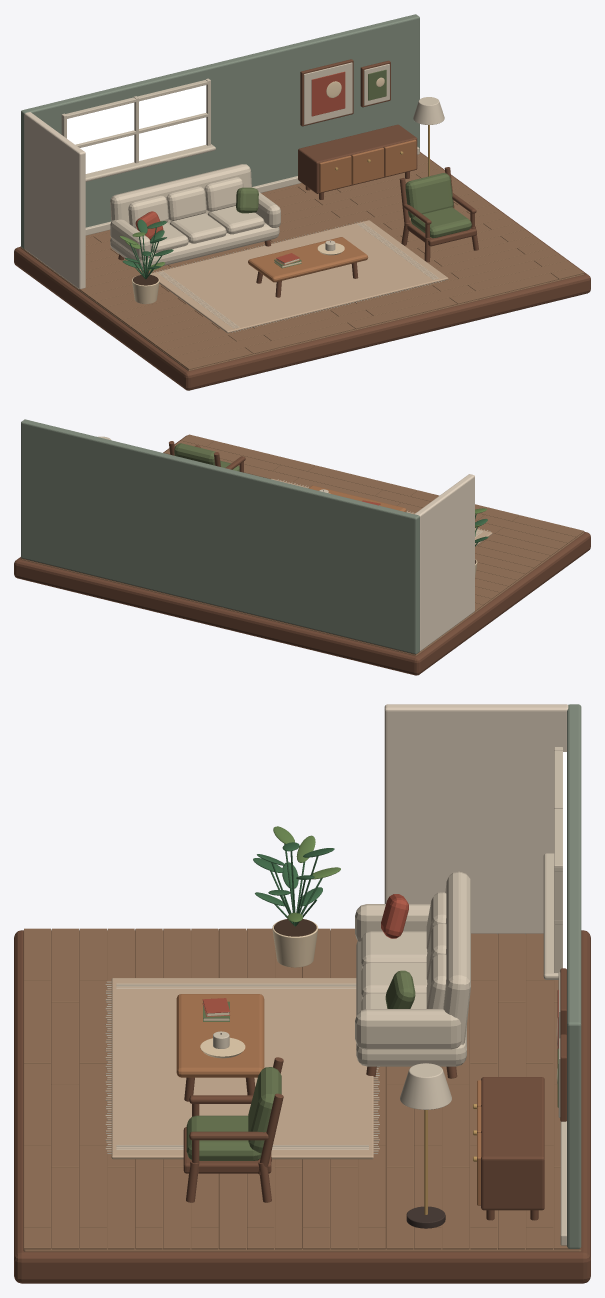
Rendered from world-base-home.glb.
3 views of the same model, one above another, from view 1: azimuth 30°, elevation 25°; view 2: azimuth 150°, elevation 25°; view 3: azimuth 270°, elevation 25° (orthographic). The views are drawn at different scales.
Parts seen in each view (by area): view 1: object 2, object 3, object 1, object 4, object 7, Back cushion.001, Seat cushion.001, Sideboard door, Sideboard door.001, Sideboard door.002, Staggered floorboard.002, Staggered floorboard.001 (+39 smaller); view 2: object 2, object 1, Staggered floorboard.002, Staggered floorboard.007, Staggered floorboard.003, object 3, Staggered floorboard.005, Staggered floorboard.014, Staggered floorboard.008, Staggered floorboard, Staggered floorboard.009, Staggered floorboard.018 (+8 smaller); view 3: object 2, object 1, object 3, object 4, Sofa arm.001, object 6, Staggered floorboard.007, Staggered floorboard.082, Staggered floorboard.010, Staggered floorboard.073, Staggered floorboard.006, Staggered floorboard.017 (+52 smaller).
Part boxes in pixels (box(x1,y1,x2,y2)): object 2: box(21, 14, 444, 328); object 3: box(150, 69, 471, 333); object 1: box(14, 59, 590, 390); object 4: box(248, 237, 368, 282); object 7: box(311, 71, 345, 116); Back cushion.001: box(166, 186, 206, 220); Seat cushion.001: box(170, 213, 226, 243); Sideboard door: box(319, 155, 351, 192); Sideboard door.001: box(351, 147, 383, 184); Sideboard door.002: box(384, 139, 416, 176); Staggered floorboard.002: box(347, 297, 457, 329); Staggered floorboard.001: box(245, 322, 354, 354); object 2: box(21, 419, 483, 653); object 1: box(14, 435, 590, 675); Staggered floorboard.002: box(308, 465, 417, 496); Staggered floorboard.007: box(273, 465, 382, 495); Staggered floorboard.003: box(206, 440, 315, 471); object 3: box(174, 443, 492, 546); Staggered floorboard.005: box(477, 515, 575, 543); Staggered floorboard.014: box(485, 533, 558, 555); Staggered floorboard.008: box(174, 440, 280, 470); Staggered floorboard: box(512, 515, 584, 537); Staggered floorboard.009: box(495, 527, 567, 549); Staggered floorboard.018: box(478, 540, 550, 562); object 2: box(107, 704, 581, 1248); object 1: box(14, 930, 590, 1283); object 3: box(111, 978, 558, 1160); object 4: box(176, 994, 264, 1077); Sofa arm.001: box(355, 1009, 461, 1049); object 6: box(200, 919, 445, 1228); Staggered floorboard.007: box(51, 1084, 78, 1167); Staggered floorboard.082: box(526, 980, 553, 1063); Staggered floorboard.010: box(79, 980, 106, 1063); Staggered floorboard.073: box(470, 980, 497, 1063); Staggered floorboard.006: box(51, 1002, 78, 1084); Staggered floorboard.017: box(107, 1167, 134, 1249).
Size of what is drawn, in the model's own units: 9.74 by 3.58 by 7.24.
